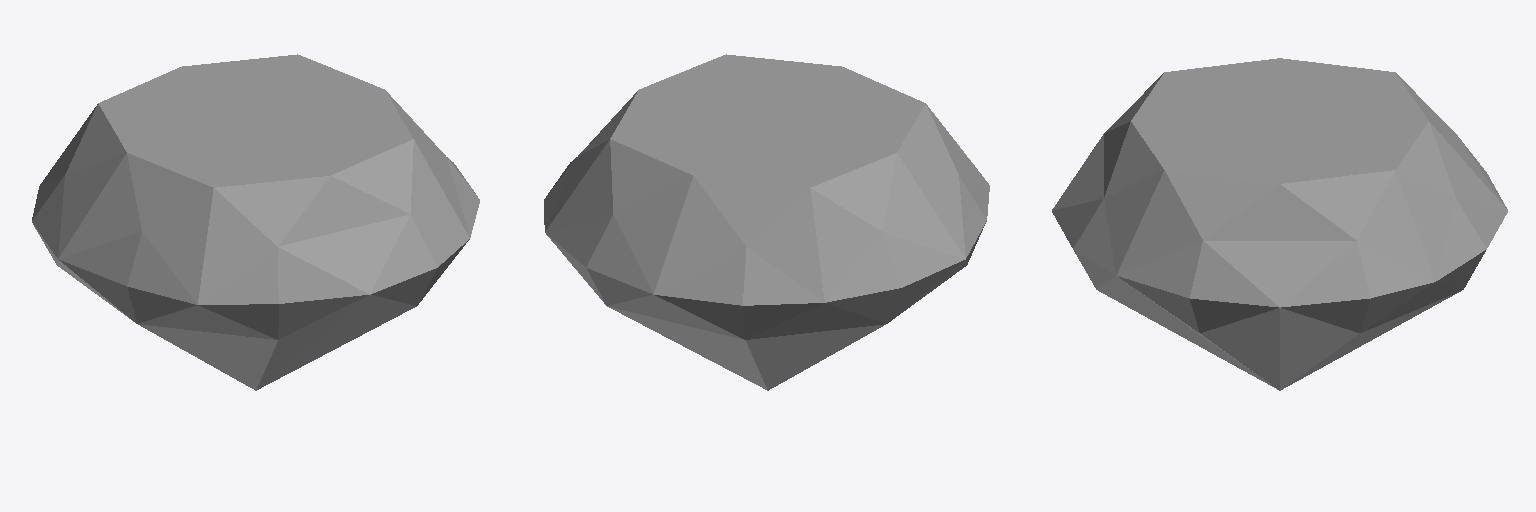
The model's file is Diamond.obj.
3 renders of one model, left to right at view 1: azimuth 30°, elevation 25°; view 2: azimuth 150°, elevation 25°; view 3: azimuth 270°, elevation 25°, orthographic.
Parts seen in each view (by area): view 1: Cube_Cube.007; view 2: Cube_Cube.007; view 3: Cube_Cube.007.
Boxes of the visible parts, x1,y1,x2,y2 form: Cube_Cube.007: [32, 54, 479, 390]; Cube_Cube.007: [544, 54, 989, 390]; Cube_Cube.007: [1052, 58, 1507, 390].
Bounding box in the file's own units: 7.24 × 4.71 × 7.24.